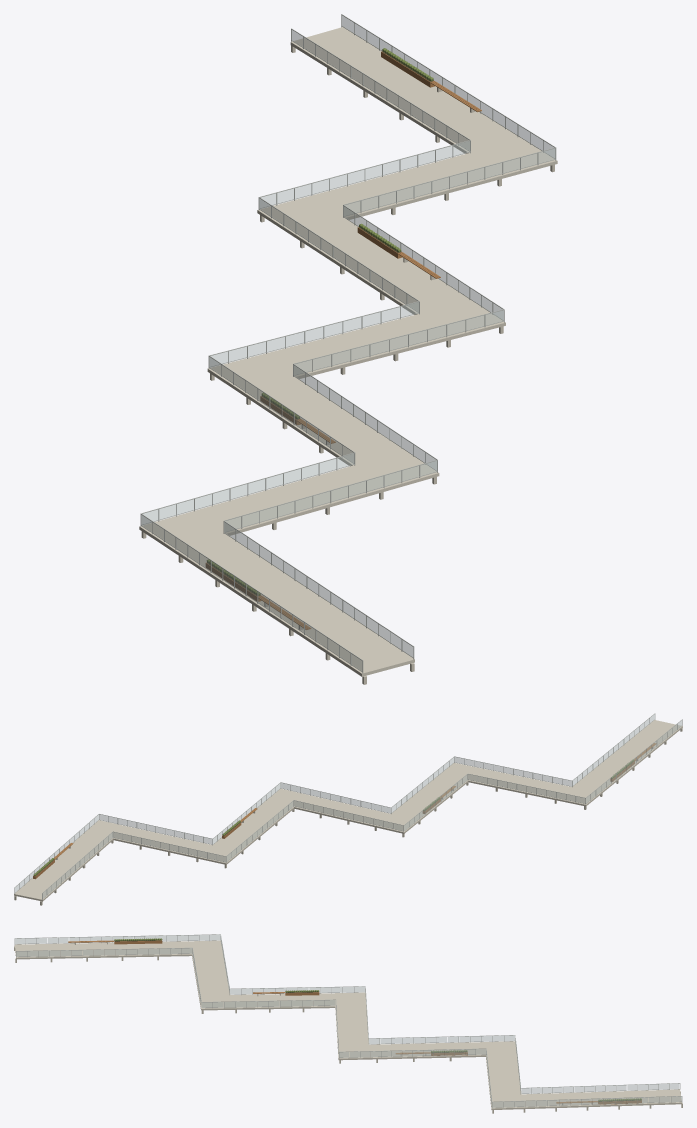
Rendered from SEU_jiuqu_bridge_reuse_candidate.glb.
The picture shows the model from 3 angles, top to bottom: view 1: azimuth 30°, elevation 25°; view 2: azimuth 150°, elevation 25°; view 3: azimuth 270°, elevation 25°; orthographic projection. The views are drawn at different scales.
Parts seen in each view (by area): view 1: SEU_BRIDGE_630436309_DECK_CONTINUOUS, SEU_BRIDGE_630436309_GUARD_R_TOP_RAIL, SEU_BRIDGE_630436309_GUARD_L_TOP_RAIL, SEU_BRIDGE_630436309_GUARD_R_BASE_RAIL, SEU_BRIDGE_630436309_GUARD_L_BASE_RAIL; view 2: SEU_BRIDGE_630436309_DECK_CONTINUOUS, SEU_BRIDGE_630436309_GUARD_L_TOP_RAIL, SEU_BRIDGE_630436309_GUARD_R_TOP_RAIL, SEU_BRIDGE_630436309_GUARD_R_BASE_RAIL, SEU_BRIDGE_630436309_GUARD_L_BASE_RAIL; view 3: SEU_BRIDGE_630436309_DECK_CONTINUOUS, SEU_BRIDGE_630436309_GUARD_L_TOP_RAIL, SEU_BRIDGE_630436309_GUARD_R_TOP_RAIL, SEU_BRIDGE_630436309_GUARD_L_BASE_RAIL, SEU_BRIDGE_630436309_GUARD_R_BASE_RAIL.
Boxes of the visible parts, bbox=[...] form: SEU_BRIDGE_630436309_DECK_CONTINUOUS: bbox=[139, 27, 557, 676]; SEU_BRIDGE_630436309_GUARD_R_TOP_RAIL: bbox=[140, 28, 470, 660]; SEU_BRIDGE_630436309_GUARD_L_TOP_RAIL: bbox=[223, 14, 556, 646]; SEU_BRIDGE_630436309_GUARD_R_BASE_RAIL: bbox=[141, 40, 470, 671]; SEU_BRIDGE_630436309_GUARD_L_BASE_RAIL: bbox=[224, 26, 555, 658]; SEU_BRIDGE_630436309_DECK_CONTINUOUS: bbox=[14, 720, 682, 901]; SEU_BRIDGE_630436309_GUARD_L_TOP_RAIL: bbox=[14, 713, 654, 887]; SEU_BRIDGE_630436309_GUARD_R_TOP_RAIL: bbox=[42, 719, 682, 893]; SEU_BRIDGE_630436309_GUARD_R_BASE_RAIL: bbox=[43, 726, 681, 898]; SEU_BRIDGE_630436309_GUARD_L_BASE_RAIL: bbox=[14, 719, 654, 893]; SEU_BRIDGE_630436309_DECK_CONTINUOUS: bbox=[14, 940, 682, 1109]; SEU_BRIDGE_630436309_GUARD_L_TOP_RAIL: bbox=[16, 947, 681, 1101]; SEU_BRIDGE_630436309_GUARD_R_TOP_RAIL: bbox=[15, 934, 679, 1088]; SEU_BRIDGE_630436309_GUARD_L_BASE_RAIL: bbox=[16, 953, 681, 1107]; SEU_BRIDGE_630436309_GUARD_R_BASE_RAIL: bbox=[15, 940, 679, 1093].
Size of the model in its own units: 57.93 by 1.93 by 97.52.
